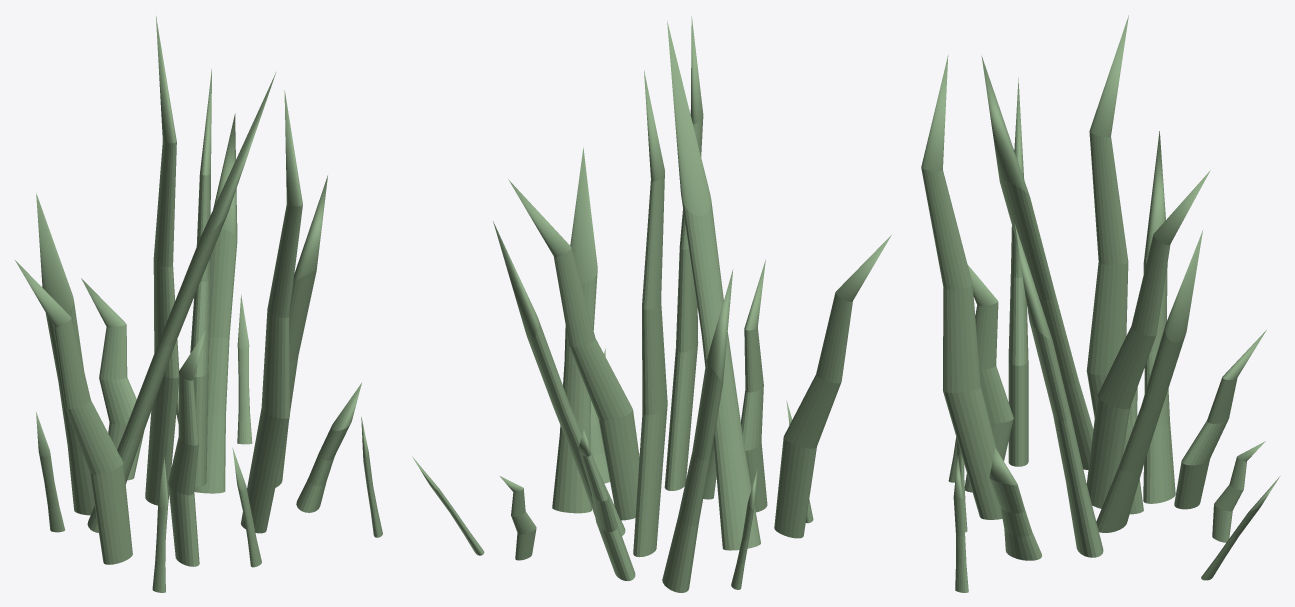
Rendered from prop_grass_1.fbx.
3 renders of one model, left to right at view 1: azimuth 30°, elevation 25°; view 2: azimuth 150°, elevation 25°; view 3: azimuth 270°, elevation 25°, orthographic. The views are drawn at different scales.
Visible parts, largest first — view 1: pCone18; view 2: pCone18; view 3: pCone18.
Boxes of the visible parts, x1,y1,x2,y2 form: pCone18: [15, 16, 382, 592]; pCone18: [412, 16, 891, 592]; pCone18: [921, 15, 1279, 592].
Size of the model in its own units: 2.58 by 3.45 by 2.21.
